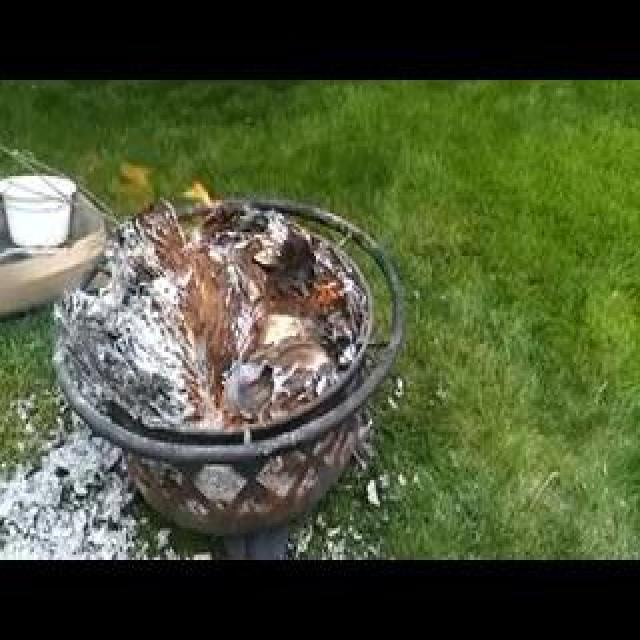Fire: (152, 186, 217, 338)
